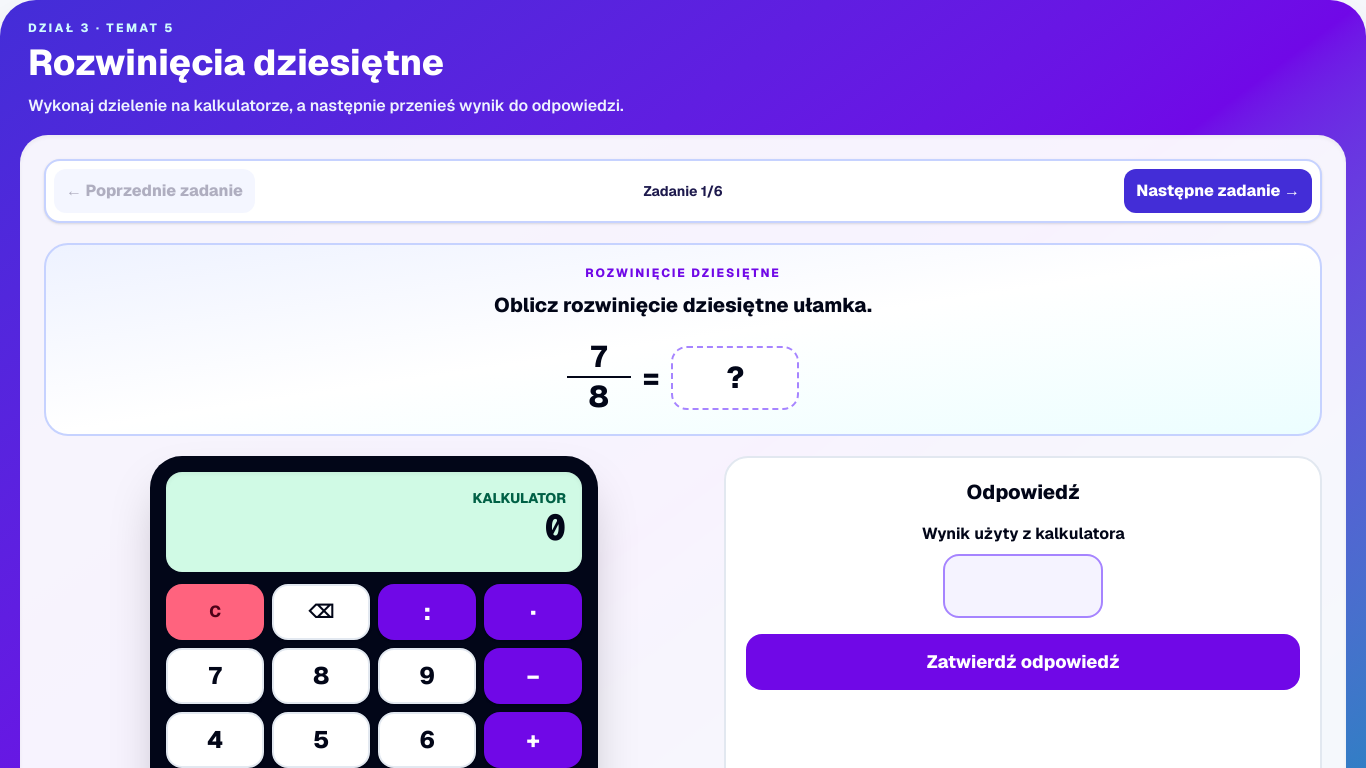
Scenario: CalculatorLessonLab › blokuje pustą odpowiedź i wyłącza klawiaturę urządzenia
The image size is (1366, 768).
Click the button "Zatwierdź odpowiedź". click: (1023, 662)
box: [746, 634, 1300, 690]
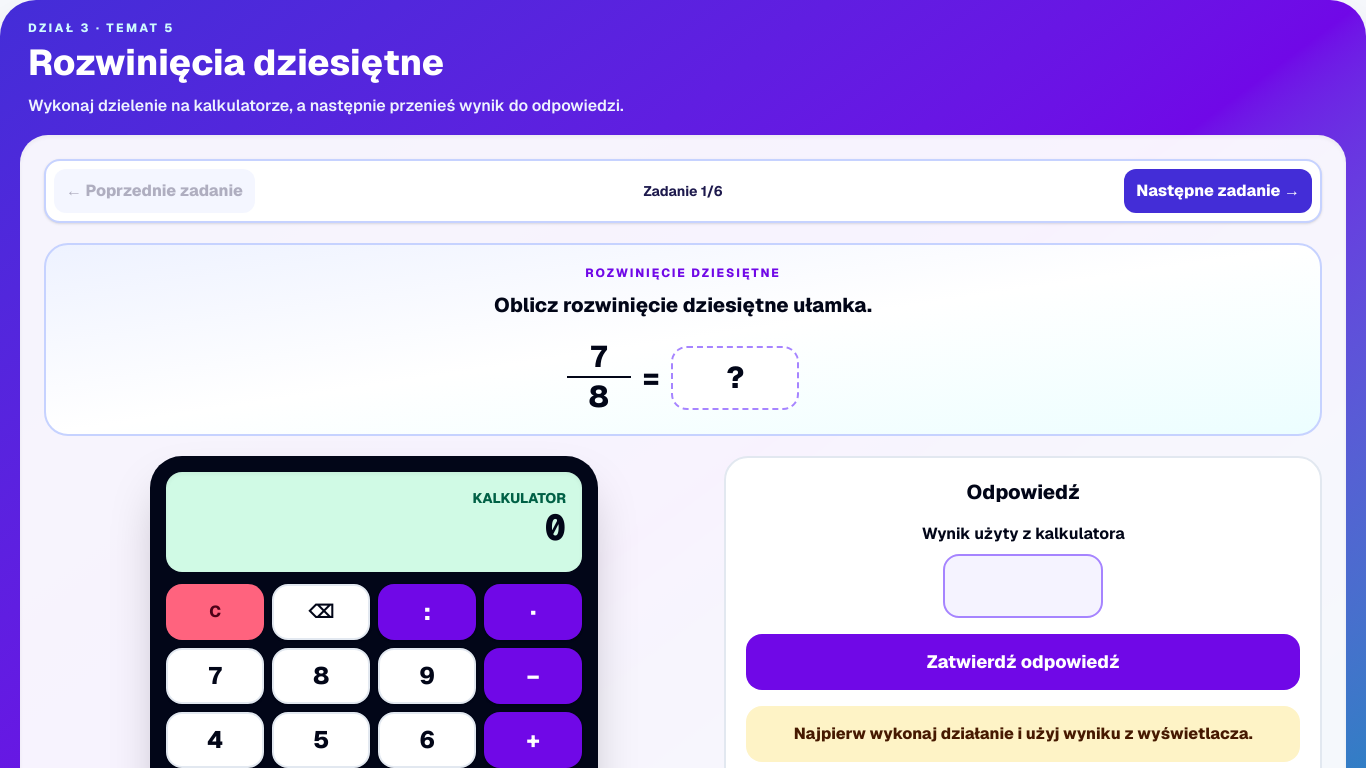
Result: the text "Najpierw wykonaj działanie i użyj wyniku z wyświetlacza." is shown at [746, 706, 1300, 762]
